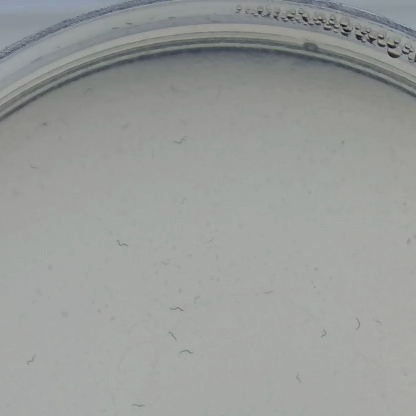worm: (8, 340, 39, 372), (254, 280, 285, 304), (350, 311, 371, 340), (11, 154, 40, 174), (150, 327, 186, 343), (112, 229, 133, 256), (287, 366, 309, 391), (167, 304, 197, 321), (173, 131, 198, 151), (124, 395, 152, 412), (175, 351, 201, 366), (319, 326, 335, 343)
